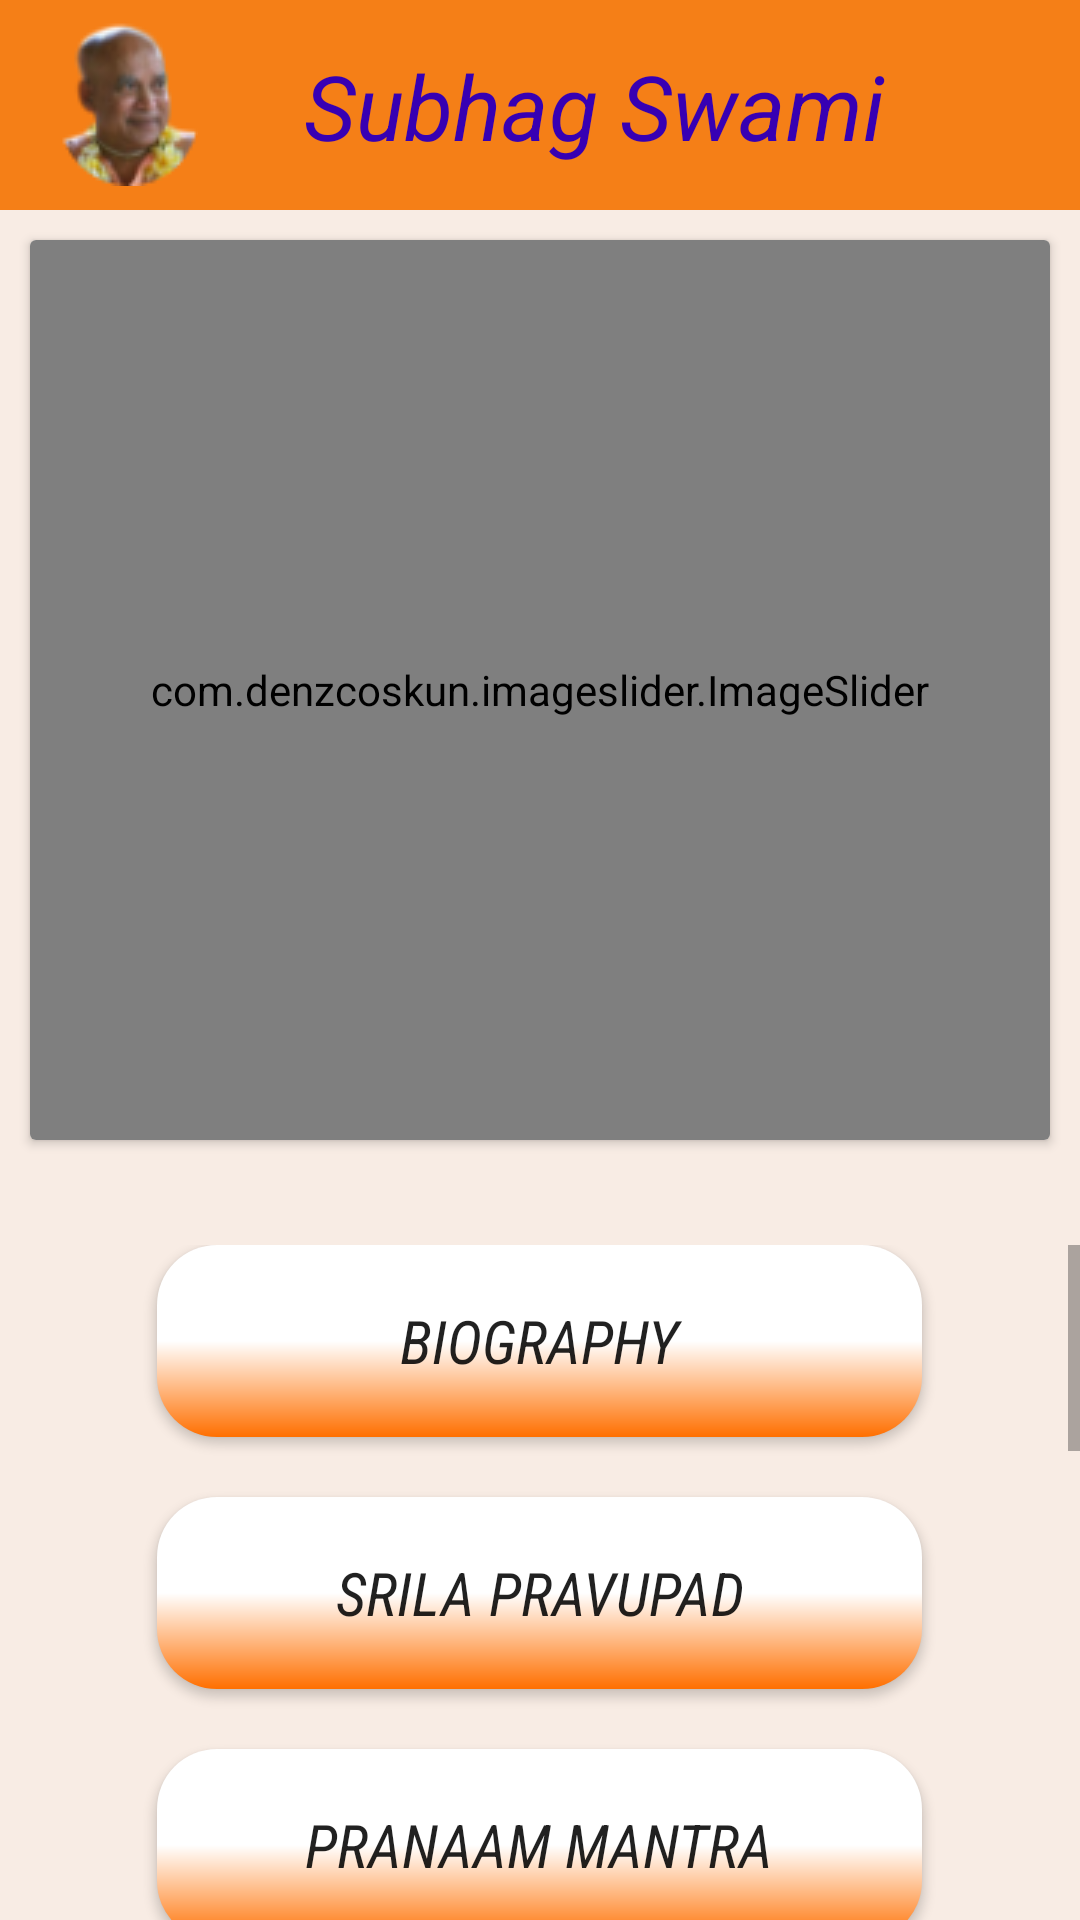

Point at icon controls on the screen. Image size 1080 x 1920, points as (x,y).
smallphoto: (129,105)
